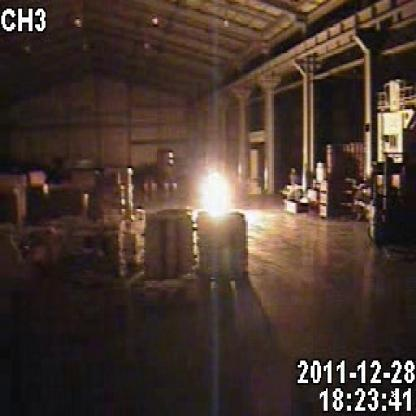fire: (186, 150, 253, 245)
